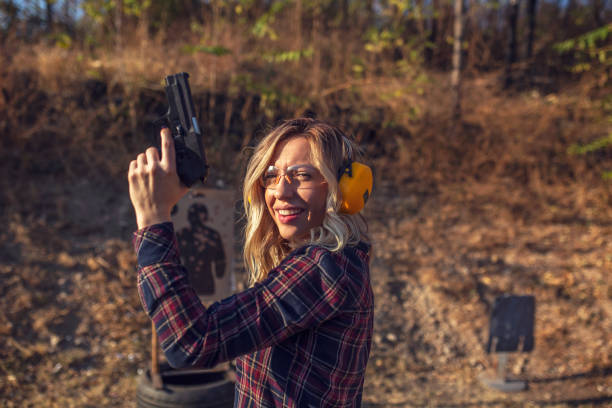gun: (151, 73, 209, 189)
